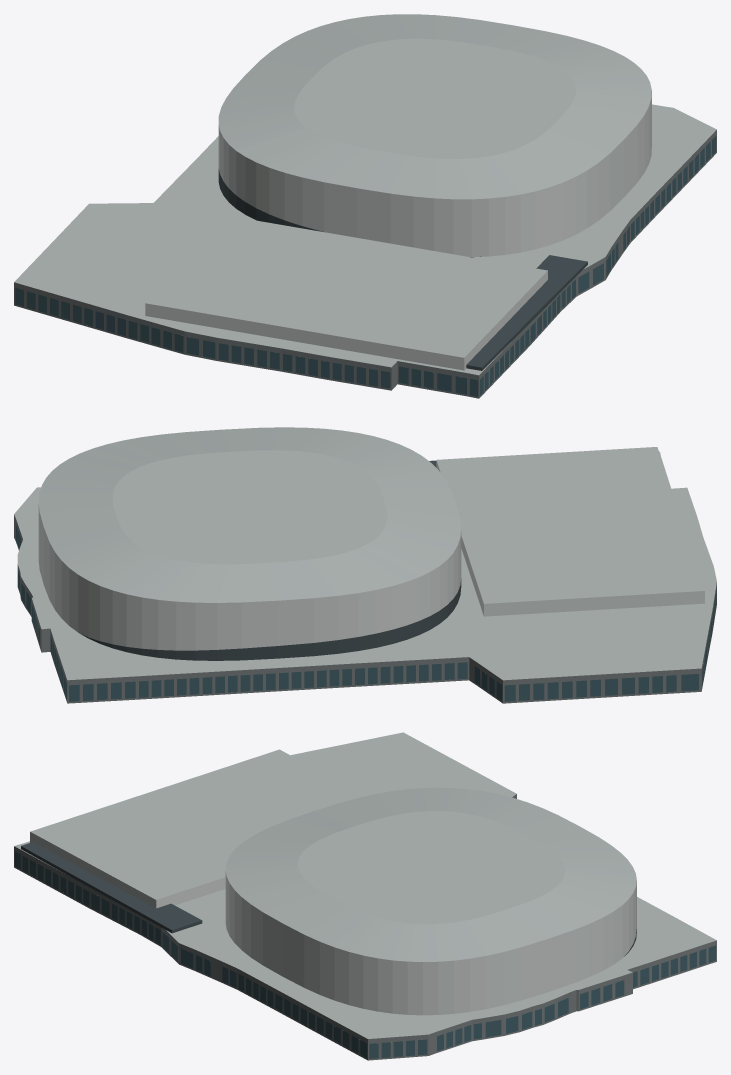
The model's file is place-bell-laval-near.glb.
3 views of the same model, one above another, from view 1: azimuth 30°, elevation 25°; view 2: azimuth 150°, elevation 25°; view 3: azimuth 270°, elevation 25° (orthographic). The views are drawn at different scales.
Parts seen in each view (by area): view 1: place-bell-laval-0-roof, place-bell-laval-0-cladding, place-bell-laval-0-glass, place-bell-laval-0-base, place-bell-laval-0-frame; view 2: place-bell-laval-0-roof, place-bell-laval-0-cladding, place-bell-laval-0-glass, place-bell-laval-0-base, place-bell-laval-0-frame; view 3: place-bell-laval-0-roof, place-bell-laval-0-cladding, place-bell-laval-0-base, place-bell-laval-0-glass, place-bell-laval-0-frame.
Boxes of the visible parts, bbox=[...] form: place-bell-laval-0-roof: bbox=[14, 14, 716, 375]; place-bell-laval-0-cladding: bbox=[145, 90, 651, 370]; place-bell-laval-0-glass: bbox=[15, 136, 716, 396]; place-bell-laval-0-base: bbox=[14, 130, 716, 398]; place-bell-laval-0-frame: bbox=[218, 169, 587, 370]; place-bell-laval-0-roof: bbox=[14, 427, 716, 680]; place-bell-laval-0-cladding: bbox=[38, 460, 704, 650]; place-bell-laval-0-glass: bbox=[16, 524, 716, 701]; place-bell-laval-0-base: bbox=[14, 515, 716, 703]; place-bell-laval-0-frame: bbox=[79, 460, 461, 660]; place-bell-laval-0-roof: bbox=[14, 732, 716, 1038]; place-bell-laval-0-cladding: bbox=[30, 832, 636, 1015]; place-bell-laval-0-base: bbox=[14, 794, 716, 1060]; place-bell-laval-0-glass: bbox=[15, 851, 715, 1058]; place-bell-laval-0-frame: bbox=[21, 842, 636, 956].
Size of the model in its own units: 209 by 26 by 202.
